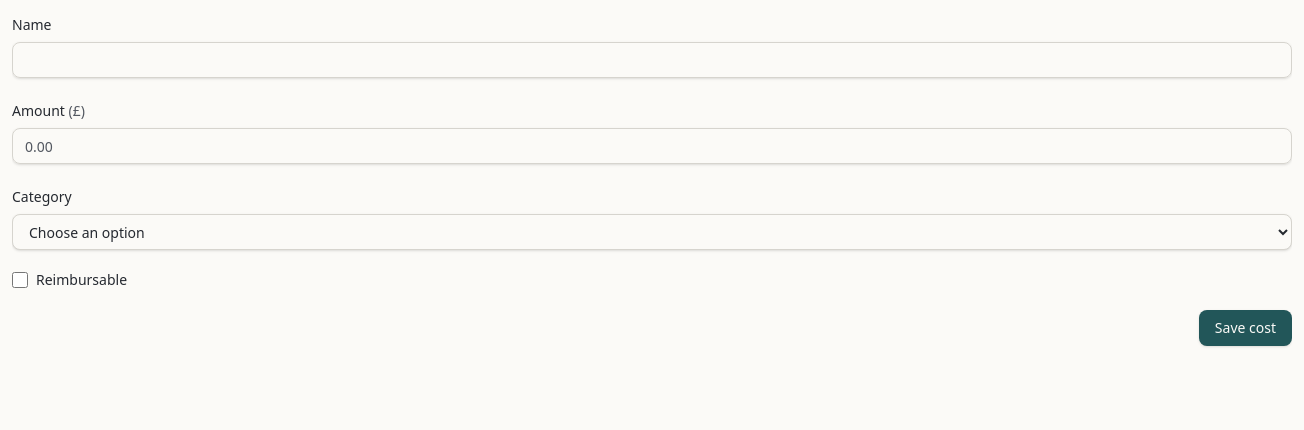
Test: EntityForm › surfaces a server error from a rejected submit
In the field labelled "Name": [652, 60] box [12,42,1292,78], type "Alex Example"
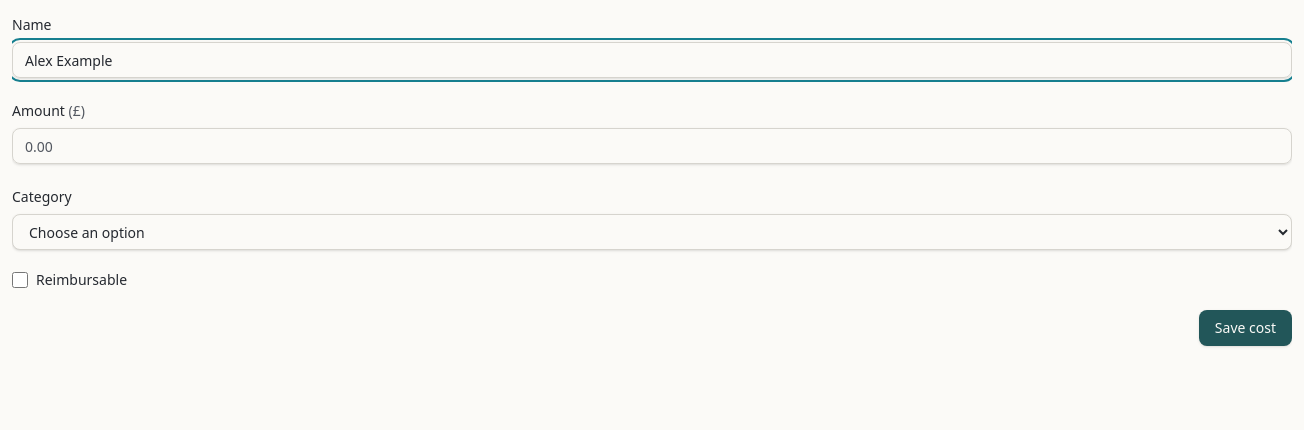
In the field labelled "Amount (£)": [652, 146] box [12,128,1292,164], type "10"
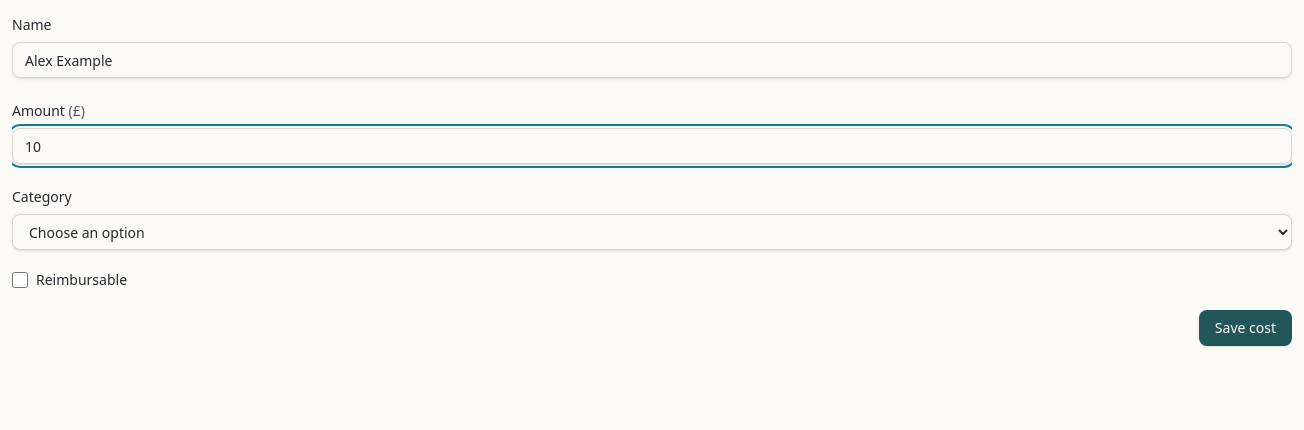
Select "Probate" in the dropdown labelled "Category": [652, 232] box [12,214,1292,250]
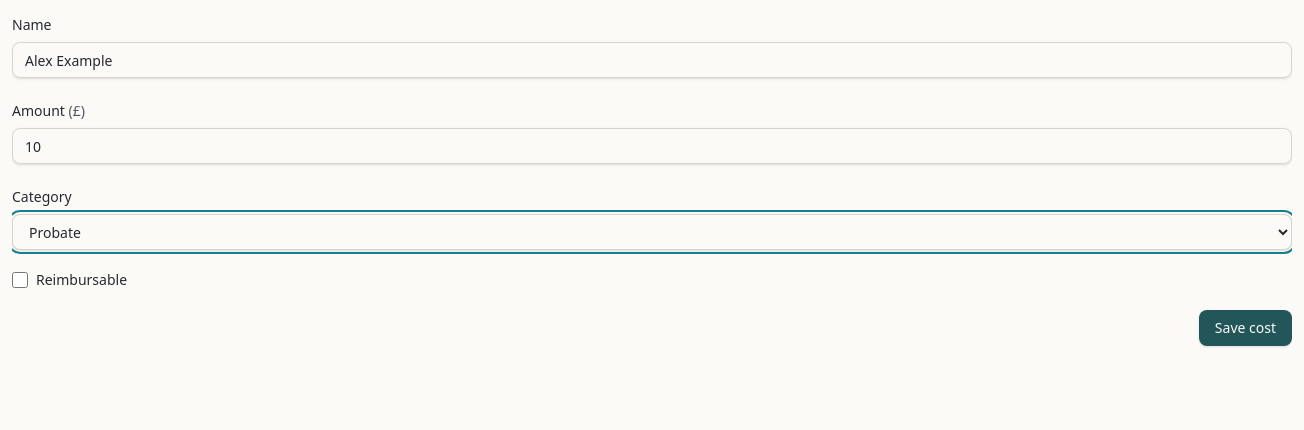
Click the button "Save cost": [1245, 328] box [1199,310,1292,346]
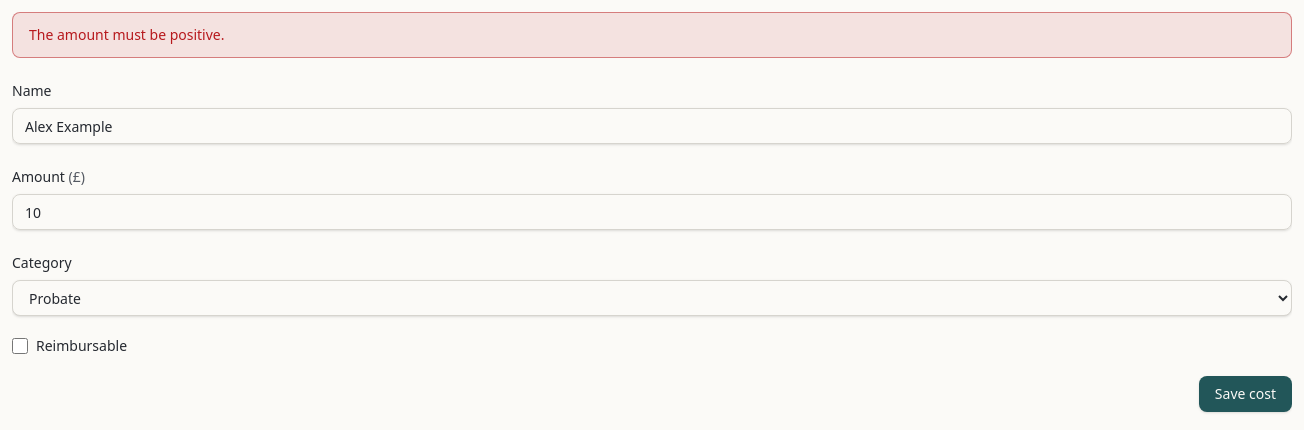
Expected: the message reads "The amount must be positive.", [29,25,224,44]
